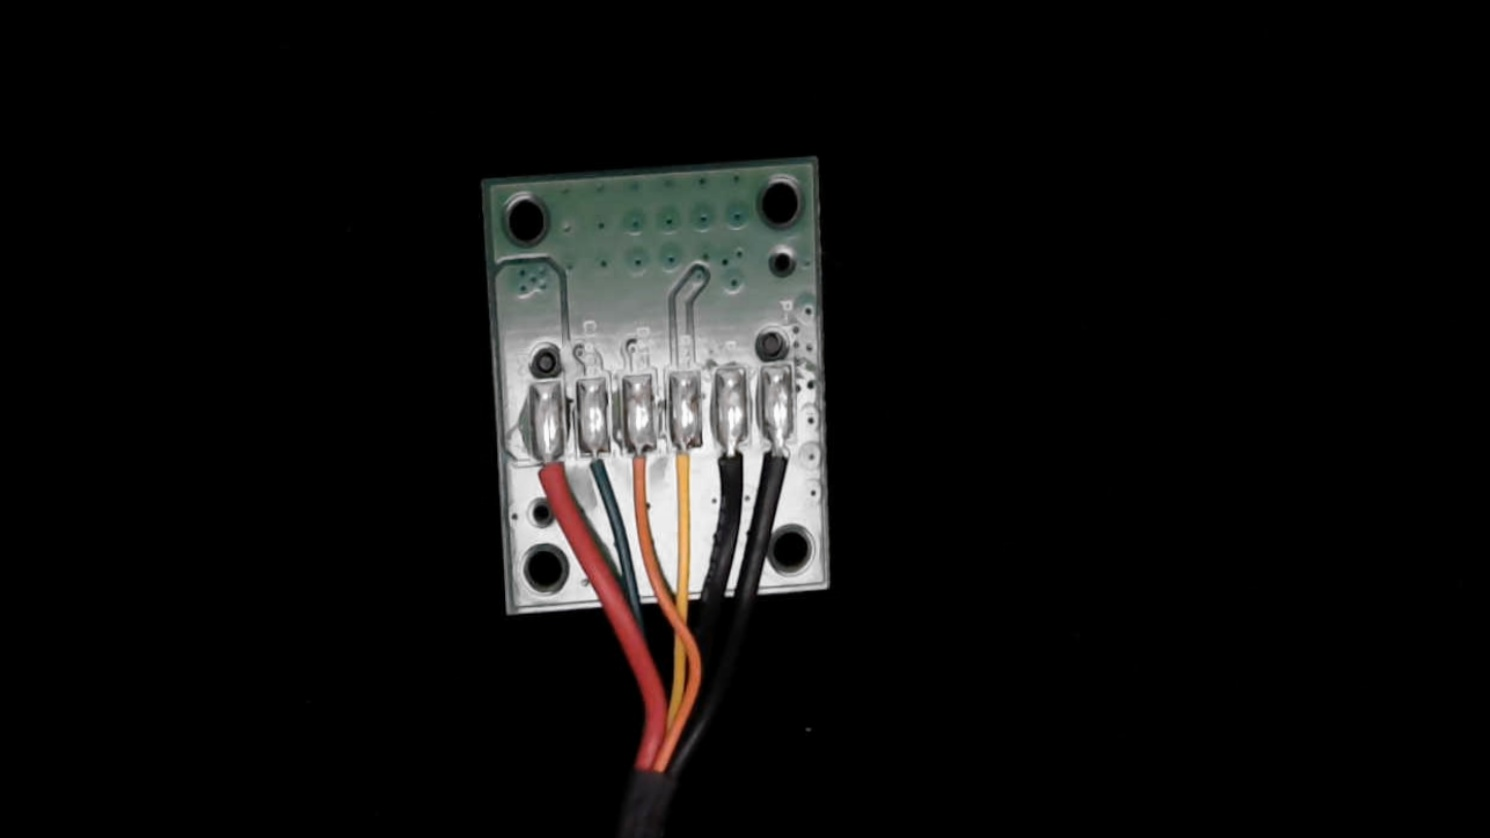Black: (710, 418, 751, 517)
Black1: (760, 412, 800, 501)
Green: (576, 426, 612, 504)
Orange: (623, 428, 659, 521)
Red: (528, 432, 570, 526)
Yellow: (667, 423, 708, 522)
